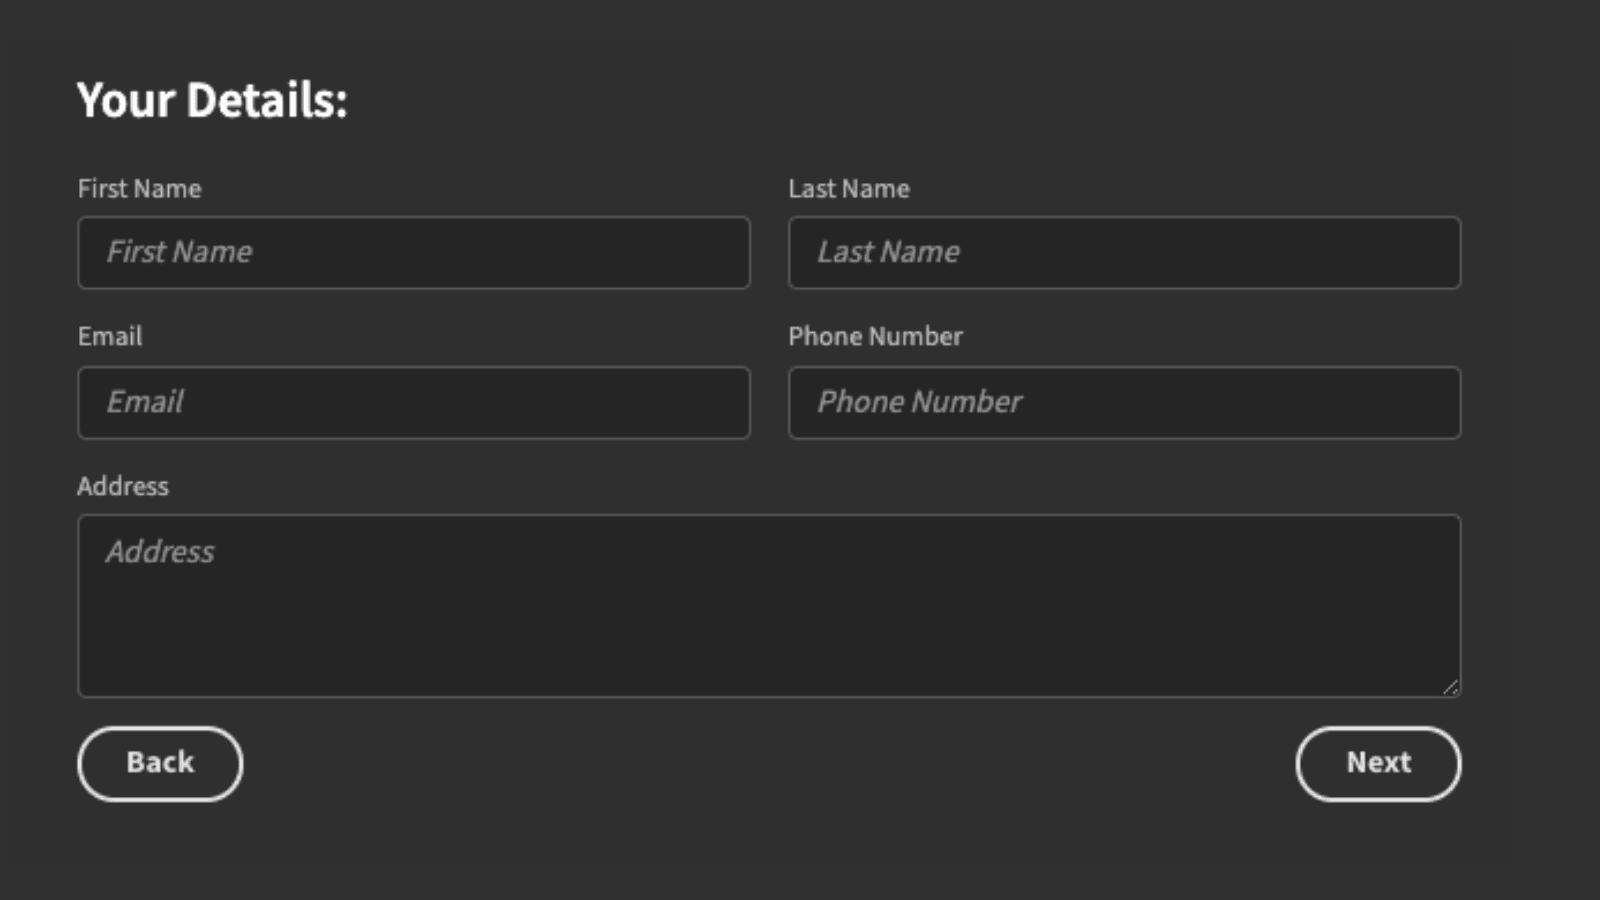button: (76, 725, 247, 807), (1296, 726, 1465, 807)
input: (789, 368, 1463, 442), (790, 218, 1465, 290), (81, 367, 753, 438), (81, 219, 752, 289)
label: (70, 76, 373, 129), (779, 319, 979, 355), (64, 162, 216, 209), (785, 165, 921, 205), (73, 473, 173, 504), (76, 322, 149, 353)
